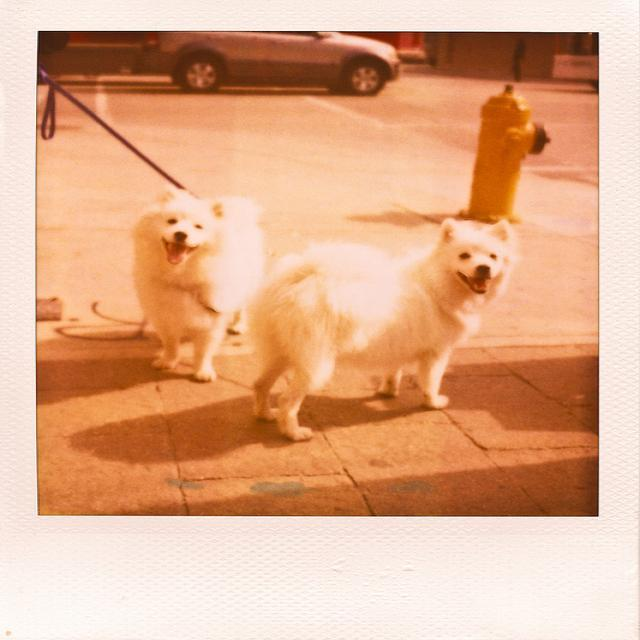fire_hydrant: (473, 83, 546, 221)
